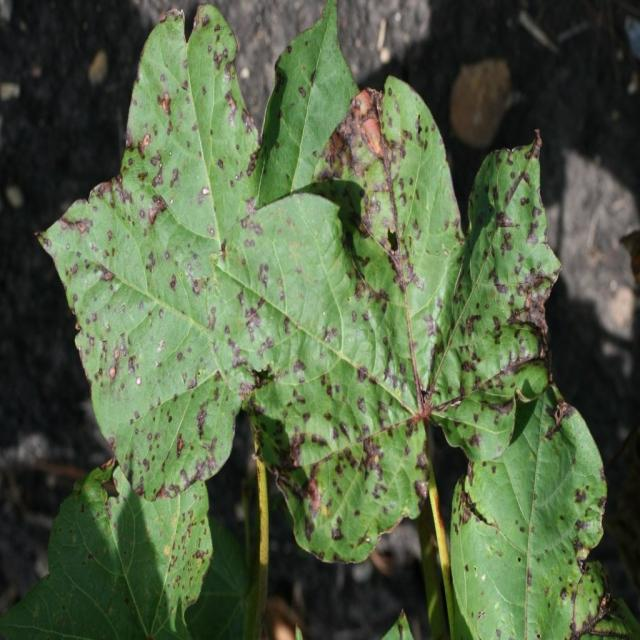Bacterial Blight: (161, 106, 551, 506)
